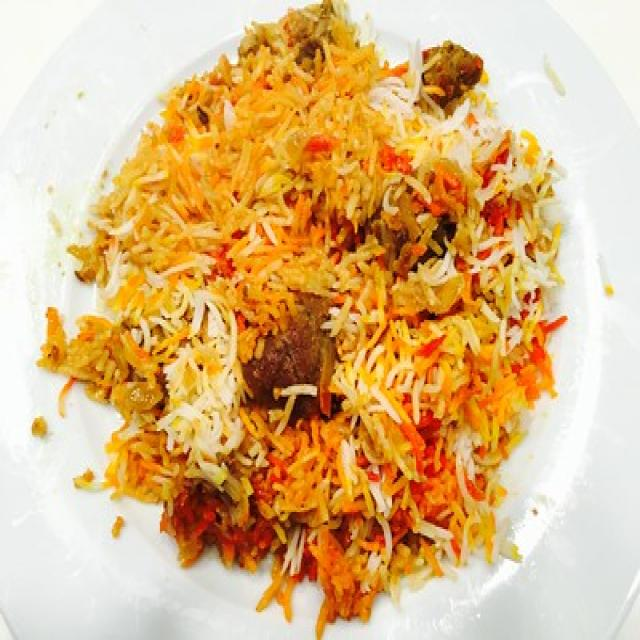Biryani: (70, 33, 555, 590)
